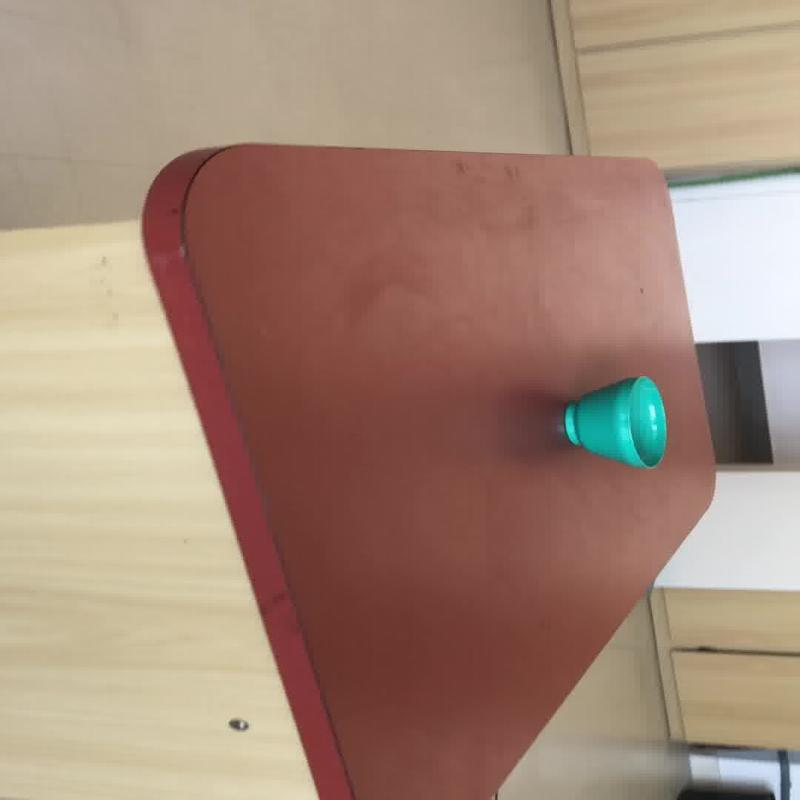bowl: (561, 374, 667, 468)
